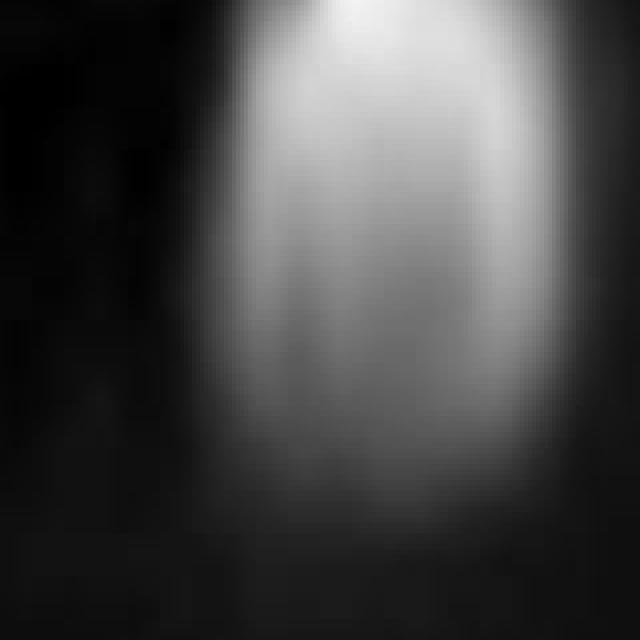person: (217, 1, 549, 540)
